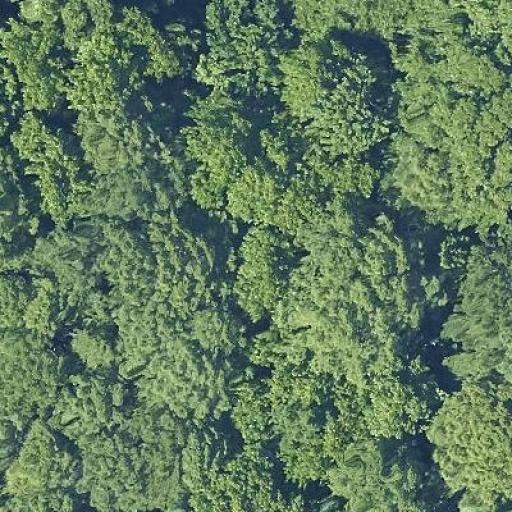tree-top: (271, 215, 444, 381), (384, 86, 507, 227), (99, 214, 221, 311), (421, 382, 512, 510), (436, 233, 512, 380), (73, 422, 177, 512), (195, 0, 284, 104), (137, 330, 241, 418), (270, 33, 380, 116), (178, 107, 256, 220), (172, 442, 290, 512), (104, 5, 195, 95), (328, 435, 434, 512), (228, 221, 298, 323), (75, 95, 159, 180), (3, 420, 82, 508), (10, 23, 74, 119), (306, 88, 388, 162), (355, 367, 433, 443), (0, 322, 65, 413), (46, 368, 125, 442), (26, 220, 100, 296), (62, 326, 122, 418), (71, 26, 134, 106), (444, 12, 512, 82), (272, 423, 342, 488), (0, 178, 41, 281), (0, 268, 59, 339), (279, 0, 389, 38), (186, 298, 251, 356), (9, 108, 69, 165), (66, 320, 118, 372), (463, 3, 512, 55)
